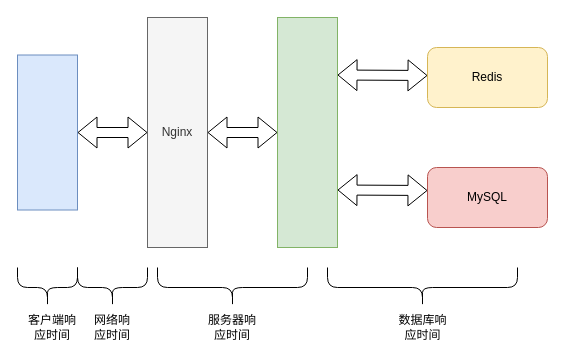
This 565x359 diagram has some shape labels left out. The shapes that lost their labels are listed below. From the top down, each one's centre as x and y in pixels, then its label:
At (47,132): "客户端".
At (307,132): "Tomcat".
